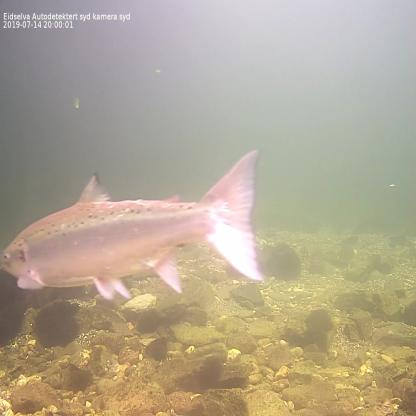salmon: (0, 146, 269, 304)
